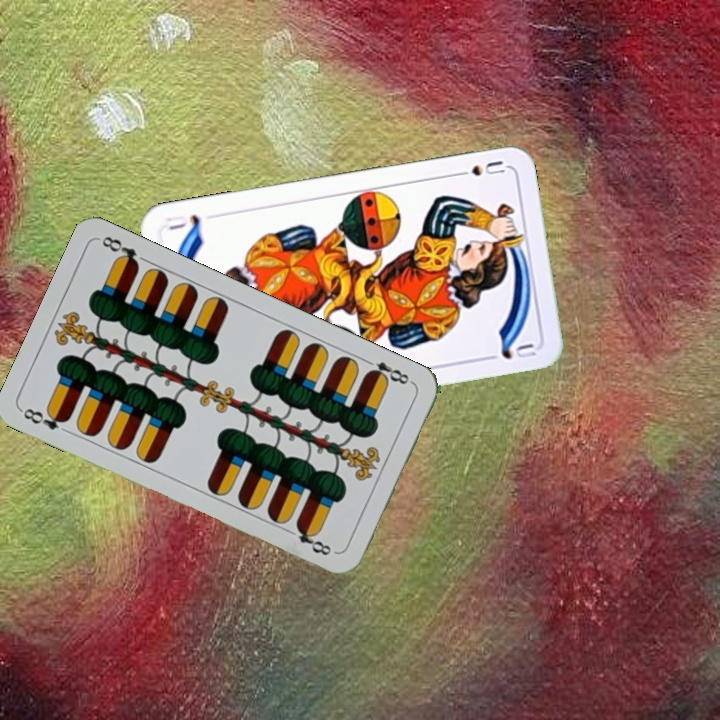E8: (360, 355, 416, 387), (18, 404, 72, 433)
SU: (450, 156, 508, 180)
